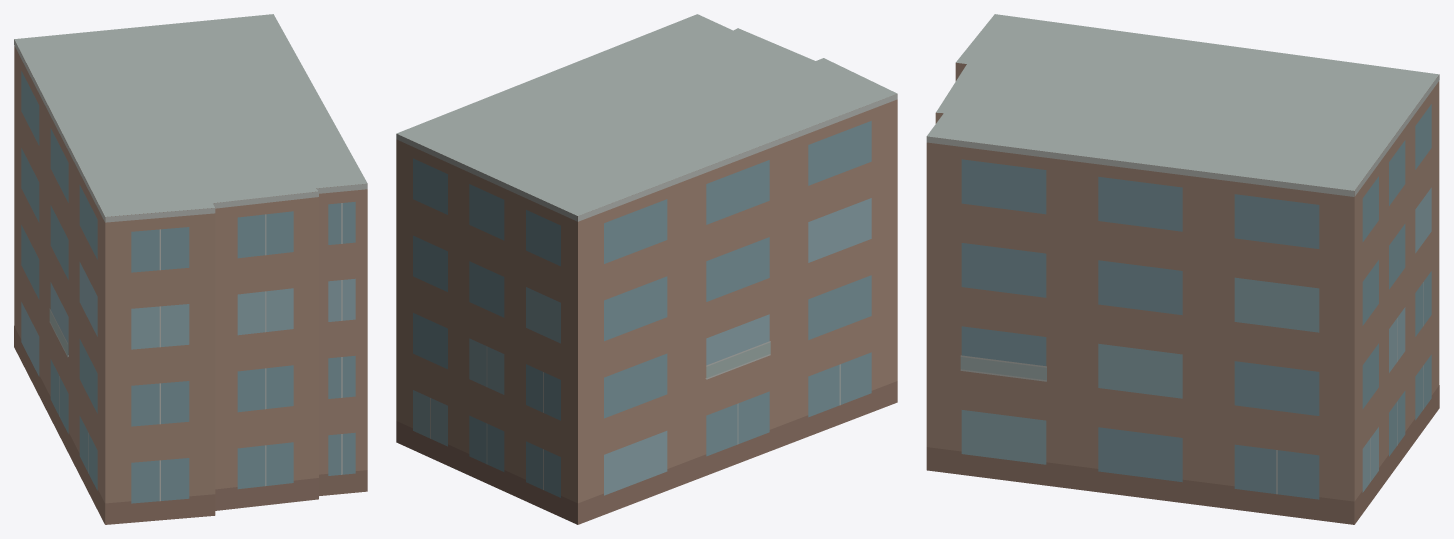
The model's file is survey-upis-32602542.glb.
The picture shows the model from 3 angles, left to right: view 1: azimuth 30°, elevation 25°; view 2: azimuth 150°, elevation 25°; view 3: azimuth 270°, elevation 25°; orthographic projection. The views are drawn at different scales.
Visible parts, largest first — view 1: survey-upis-32602542.tmp; view 2: survey-upis-32602542.tmp; view 3: survey-upis-32602542.tmp.
Boxes of the visible parts, x1,y1,x2,y2 form: survey-upis-32602542.tmp: (14,14,367,524); survey-upis-32602542.tmp: (396,14,897,524); survey-upis-32602542.tmp: (926,14,1439,524).
Size of the model in its own units: 15.12 by 13.3 by 18.52.
